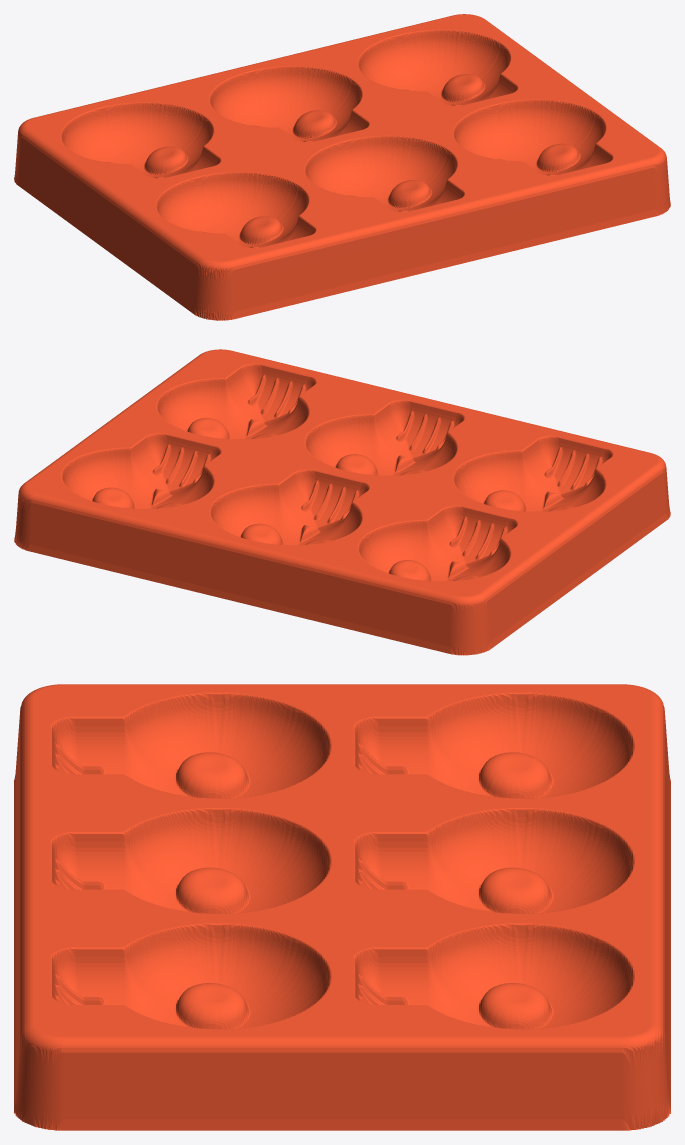
Rendered from mold.glb.
3 views of the same model, one above another, from view 1: azimuth 30°, elevation 25°; view 2: azimuth 150°, elevation 25°; view 3: azimuth 270°, elevation 25° (orthographic). The views are drawn at different scales.
Visible parts, largest first — view 1: geometry_0; view 2: geometry_0; view 3: geometry_0.
Part boxes in pixels (x1,y1,x2,y2): geometry_0: (14, 14, 670, 320); geometry_0: (14, 349, 670, 655); geometry_0: (14, 684, 670, 1130).
Size of the model in its own units: 0.1603 by 0.0175 by 0.1211.
